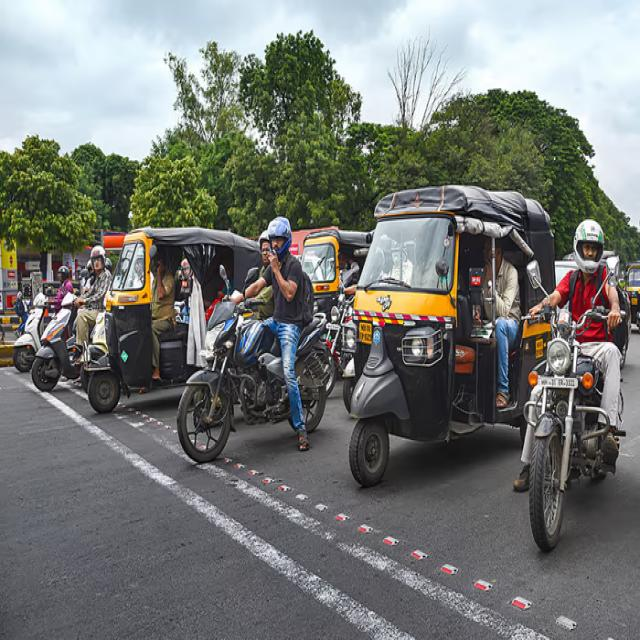Vehicles: (336, 174, 559, 523), (88, 213, 280, 445), (521, 307, 640, 553), (179, 284, 329, 473), (293, 186, 380, 332), (38, 297, 88, 417), (7, 280, 50, 380)
